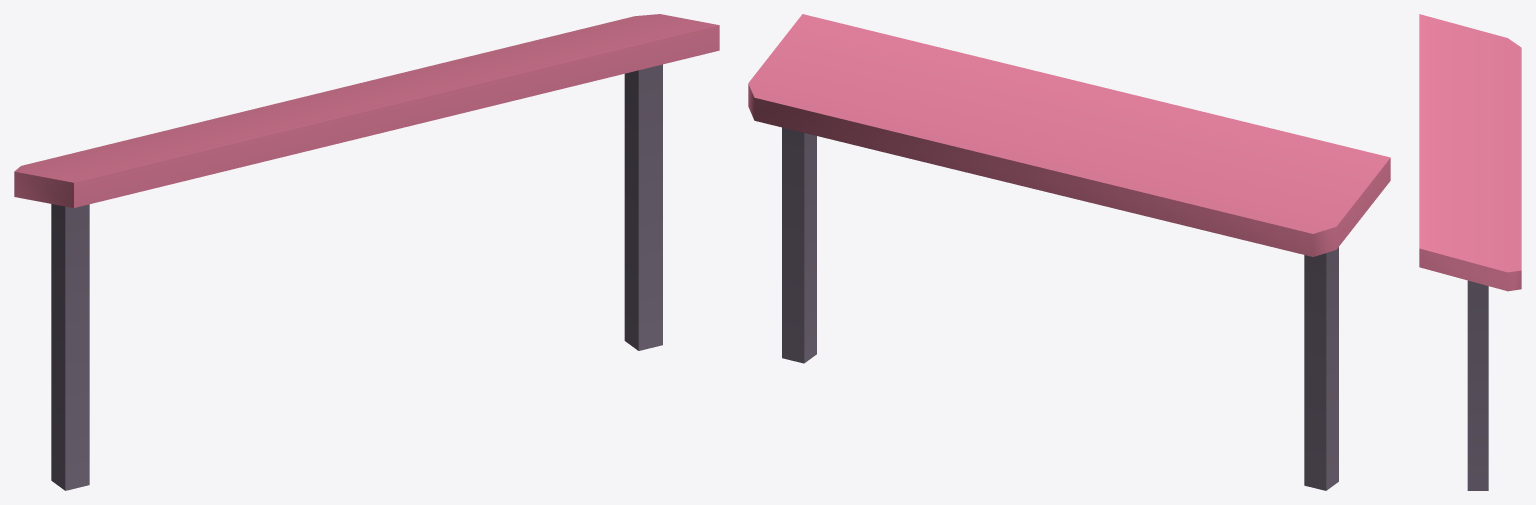
File: detail-awning-wide.glb
3 views of the same model, side by side, from view 1: azimuth 30°, elevation 25°; view 2: azimuth 150°, elevation 25°; view 3: azimuth 270°, elevation 25° (orthographic). The views are drawn at different scales.
Parts seen in each view (by area): view 1: detail-awning-wide; view 2: detail-awning-wide; view 3: detail-awning-wide.
Part boxes in pixels (<box>): detail-awning-wide: <box>14,14,719,490</box>; detail-awning-wide: <box>748,14,1390,490</box>; detail-awning-wide: <box>1419,14,1521,490</box>.
Size of the model in its own units: 0.8 by 0.4 by 0.1479.
1 material, 1 textured.
